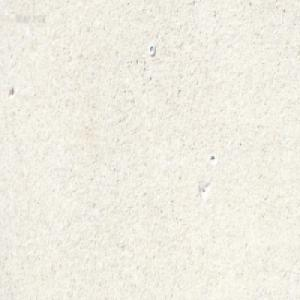Washer: (148, 43, 155, 56)
